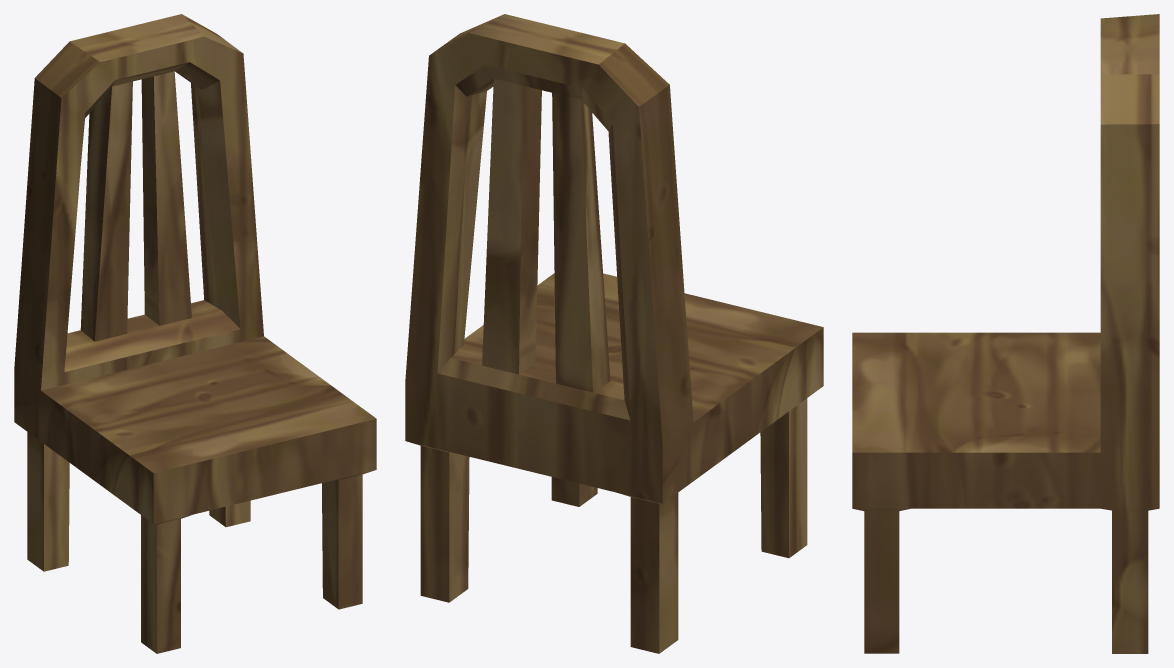
File: chair.fbx
3 renders of one model, left to right at view 1: azimuth 30°, elevation 25°; view 2: azimuth 150°, elevation 25°; view 3: azimuth 270°, elevation 25°, orthographic. The views are drawn at different scales.
Visible parts, largest first — view 1: chair; view 2: chair; view 3: chair.
Boxes of the visible parts, x1,y1,x2,y2 form: chair: (14,14,376,653); chair: (405,14,823,653); chair: (852,14,1159,653).
Bounding box in the file's own units: 64.53 × 139 × 69.92.
